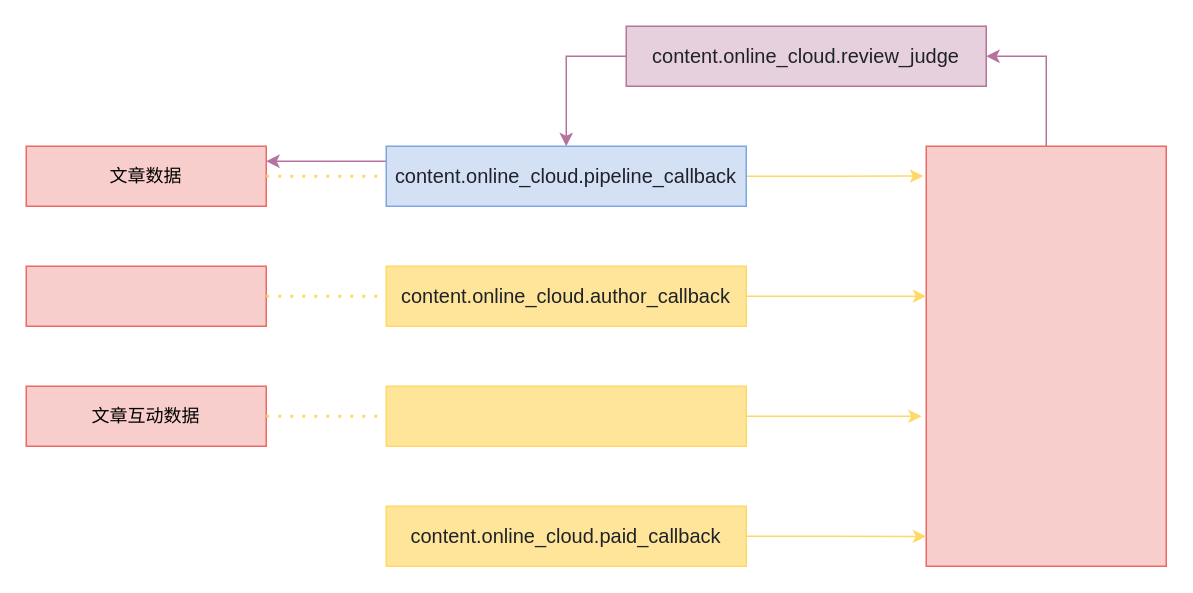
The diagram is 1193 pixels wide and 593 high, and some of its shapes have lost their labels. Here are the shapes that lost their labels. From the top down, the centre of each, then its label:
the point at 145,295: 作者数据
the point at 1045,355: 审核系统
the point at 565,415: content.online_cloud.stats_callback
